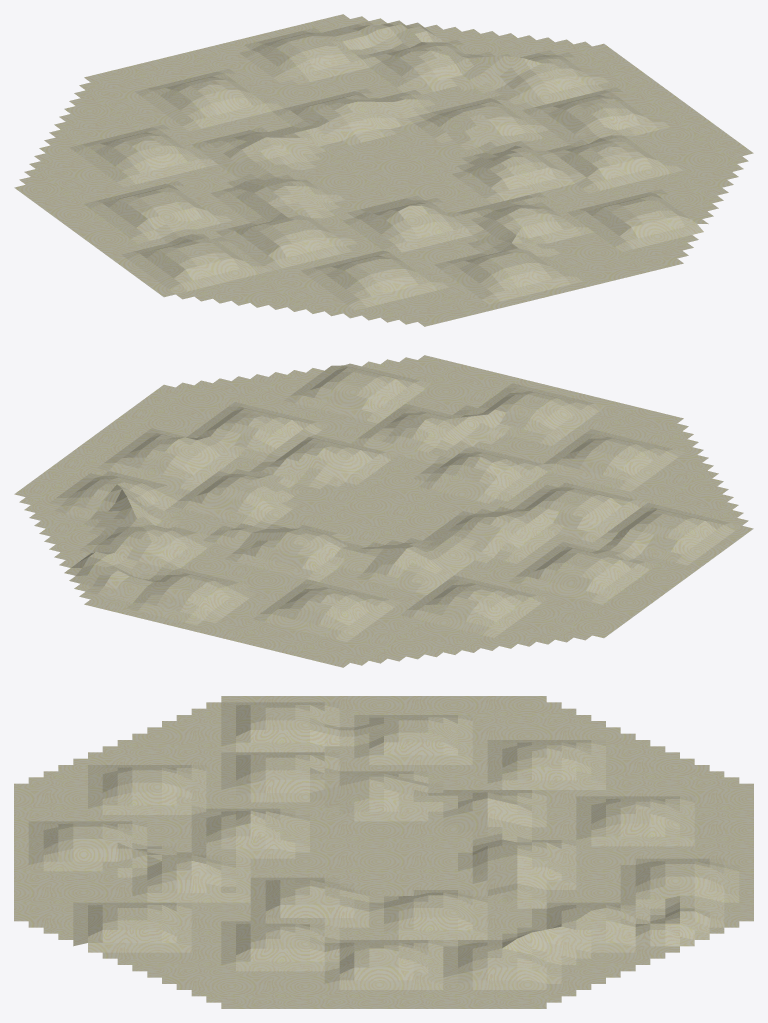
Rendered from FG Map - Plane Dunes.fbx.
The picture shows the model from 3 angles, top to bottom: view 1: azimuth 30°, elevation 25°; view 2: azimuth 150°, elevation 25°; view 3: azimuth 270°, elevation 25°; orthographic projection. The views are drawn at different scales.
Parts seen in each view (by area): view 1: Plane - Dunes01; view 2: Plane - Dunes01; view 3: Plane - Dunes01.
Part boxes in pixels (x1,y1,x2,y2): Plane - Dunes01: (14,14,753,326); Plane - Dunes01: (14,355,753,667); Plane - Dunes01: (14,696,753,1008).
Bounding box in the file's own units: 10000 × 300 × 10000.
